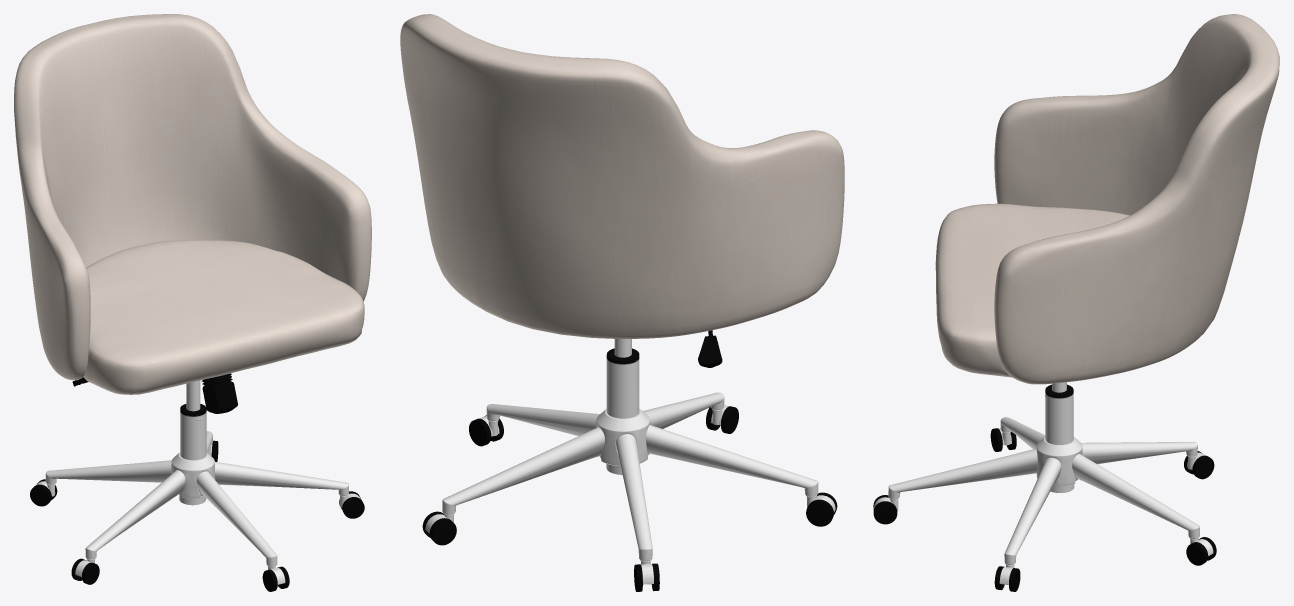
File: B07M66SYGT.glb
The picture shows the model from 3 angles, left to right: view 1: azimuth 30°, elevation 25°; view 2: azimuth 150°, elevation 25°; view 3: azimuth 270°, elevation 25°; orthographic projection. The views are drawn at different scales.
Visible parts, largest first — view 1: RootNode; view 2: RootNode; view 3: RootNode.
Boxes of the visible parts, x1,y1,x2,y2 form: RootNode: [14, 14, 371, 591]; RootNode: [400, 14, 844, 591]; RootNode: [873, 14, 1279, 591].
Bounding box in the file's own units: 0.6017 × 0.8193 × 0.6474.
1 material, 1 textured.
